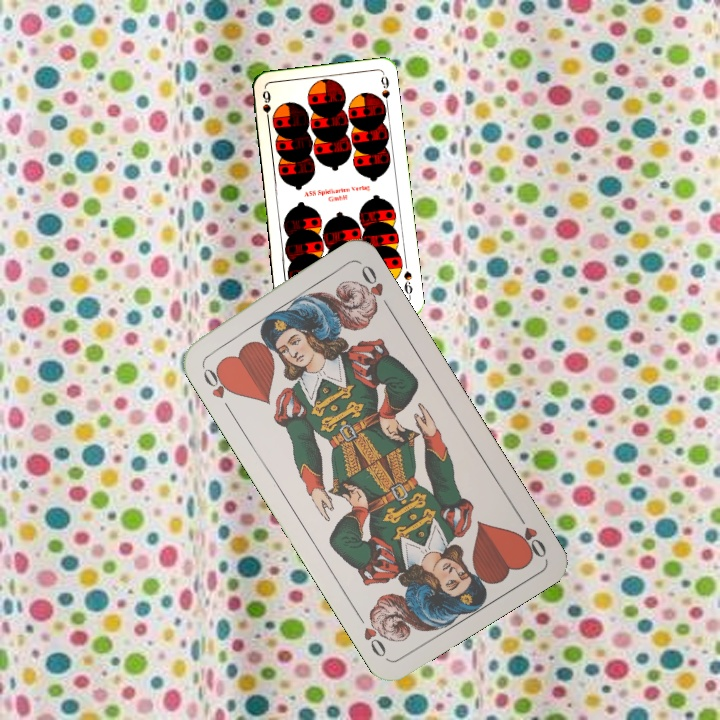HO: (197, 360, 237, 414), (511, 506, 549, 561)
S9: (258, 86, 273, 127), (400, 267, 415, 300)
